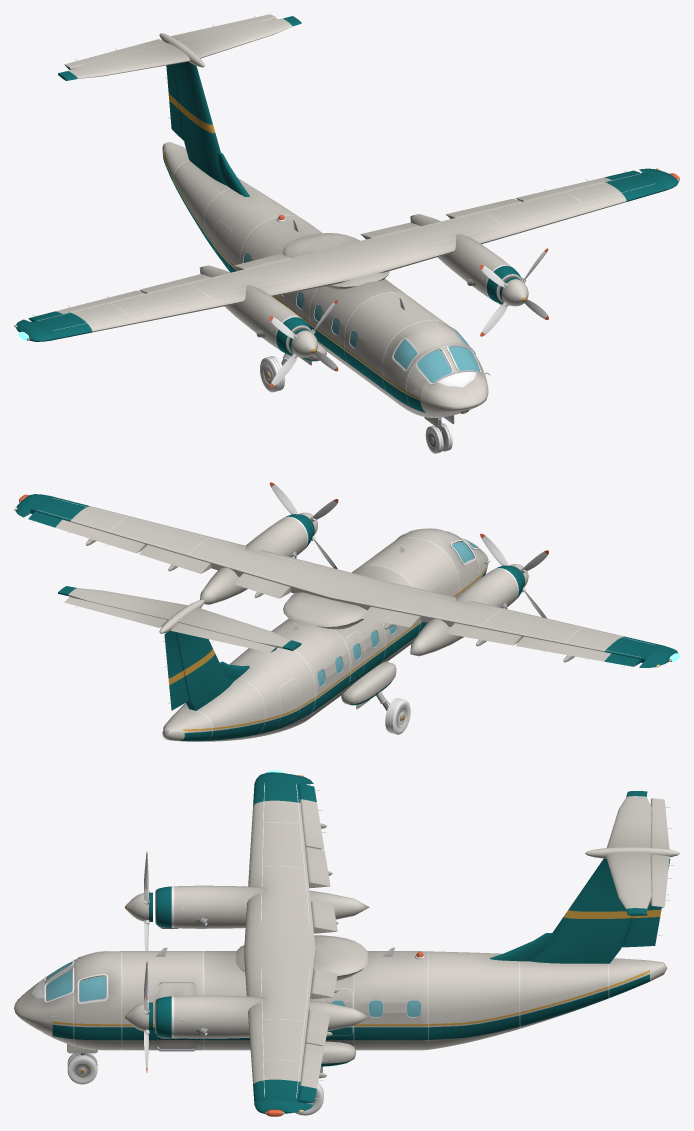
The model's file is aircraft.fbx.
3 renders of one model, top to bottom at view 1: azimuth 30°, elevation 25°; view 2: azimuth 150°, elevation 25°; view 3: azimuth 270°, elevation 25°, orthographic. The views are drawn at different scales.
Visible parts, largest first — view 1: Body, Prop_L, Prop_R; view 2: Body, Prop_L, Prop_R; view 3: Body, Door, Prop_L, Prop_R.
Part boxes in pixels (x1,y1,x2,y2): Body: (14,14,679,453); Prop_L: (480,248,548,336); Prop_R: (269,300,338,387); Body: (14,494,679,741); Prop_L: (269,482,338,568); Prop_R: (480,533,548,618); Body: (14,770,679,1116); Door: (158,983,195,1051); Prop_L: (125,961,152,1072); Prop_R: (125,852,152,950).
Size of the model in its own units: 16.21 by 5.15 by 13.32.
